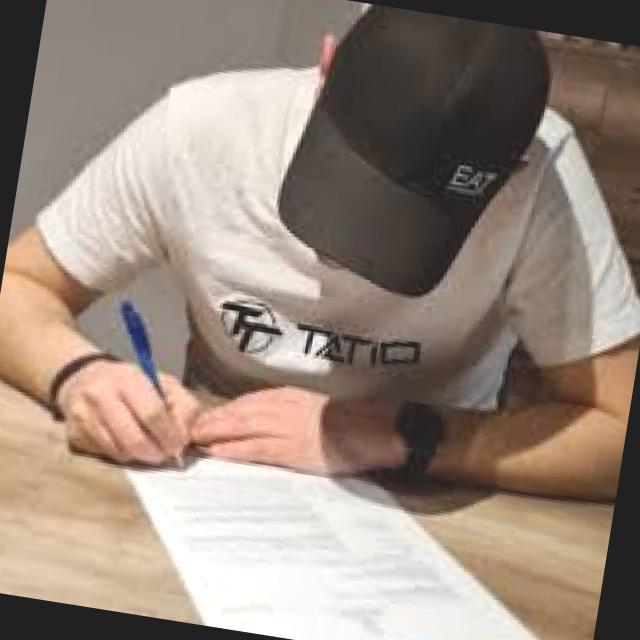cap: (244, 0, 586, 328)
